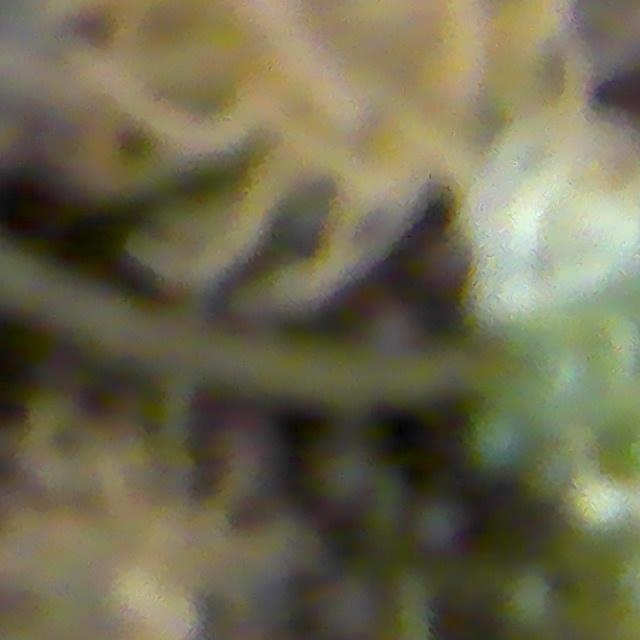SeaGrape: (313, 574, 386, 640), (468, 407, 532, 473), (409, 496, 467, 555)
